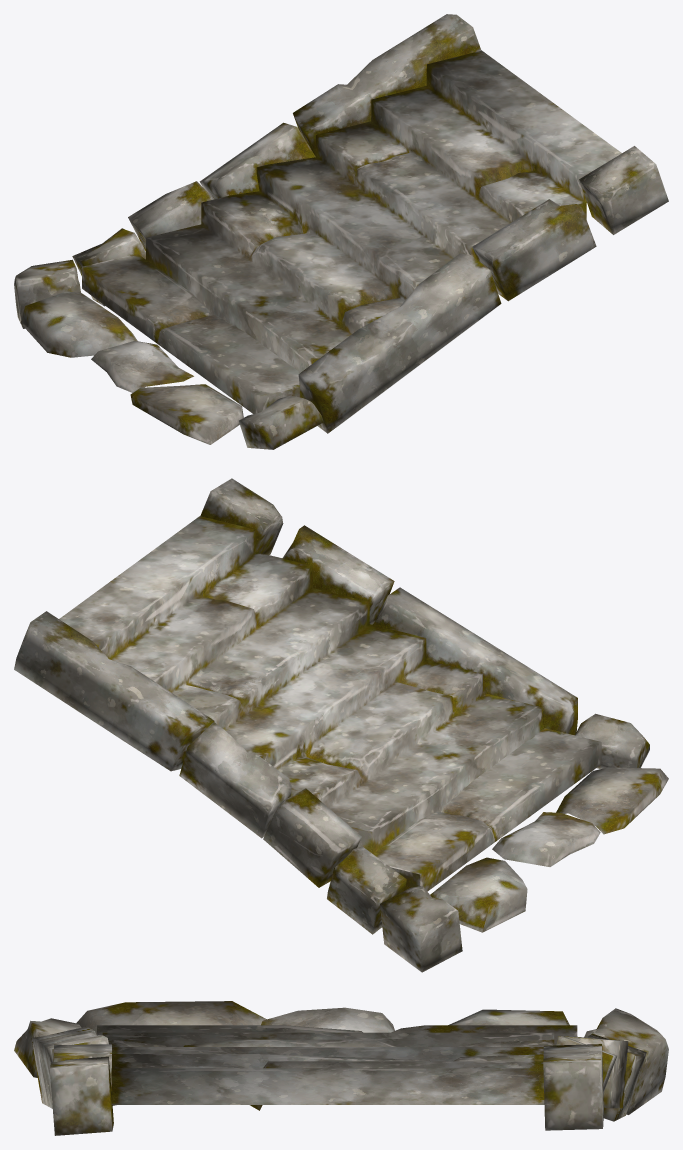
Rendered from Stairs5.fbx.
3 renders of one model, top to bottom at view 1: azimuth 30°, elevation 25°; view 2: azimuth 150°, elevation 25°; view 3: azimuth 270°, elevation 25°, orthographic. The views are drawn at different scales.
Parts seen in each view (by area): view 1: SM_a_001_Stairs_05a; view 2: SM_a_001_Stairs_05a; view 3: SM_a_001_Stairs_05a.
Boxes of the visible parts, <box> form: SM_a_001_Stairs_05a: <box>14,14,668,449</box>; SM_a_001_Stairs_05a: <box>14,478,668,972</box>; SM_a_001_Stairs_05a: <box>14,1001,668,1135</box>.
Bounding box in the file's own units: 338 × 153 × 302.
